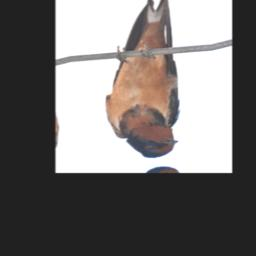Swallow: (79, 0, 205, 165)
